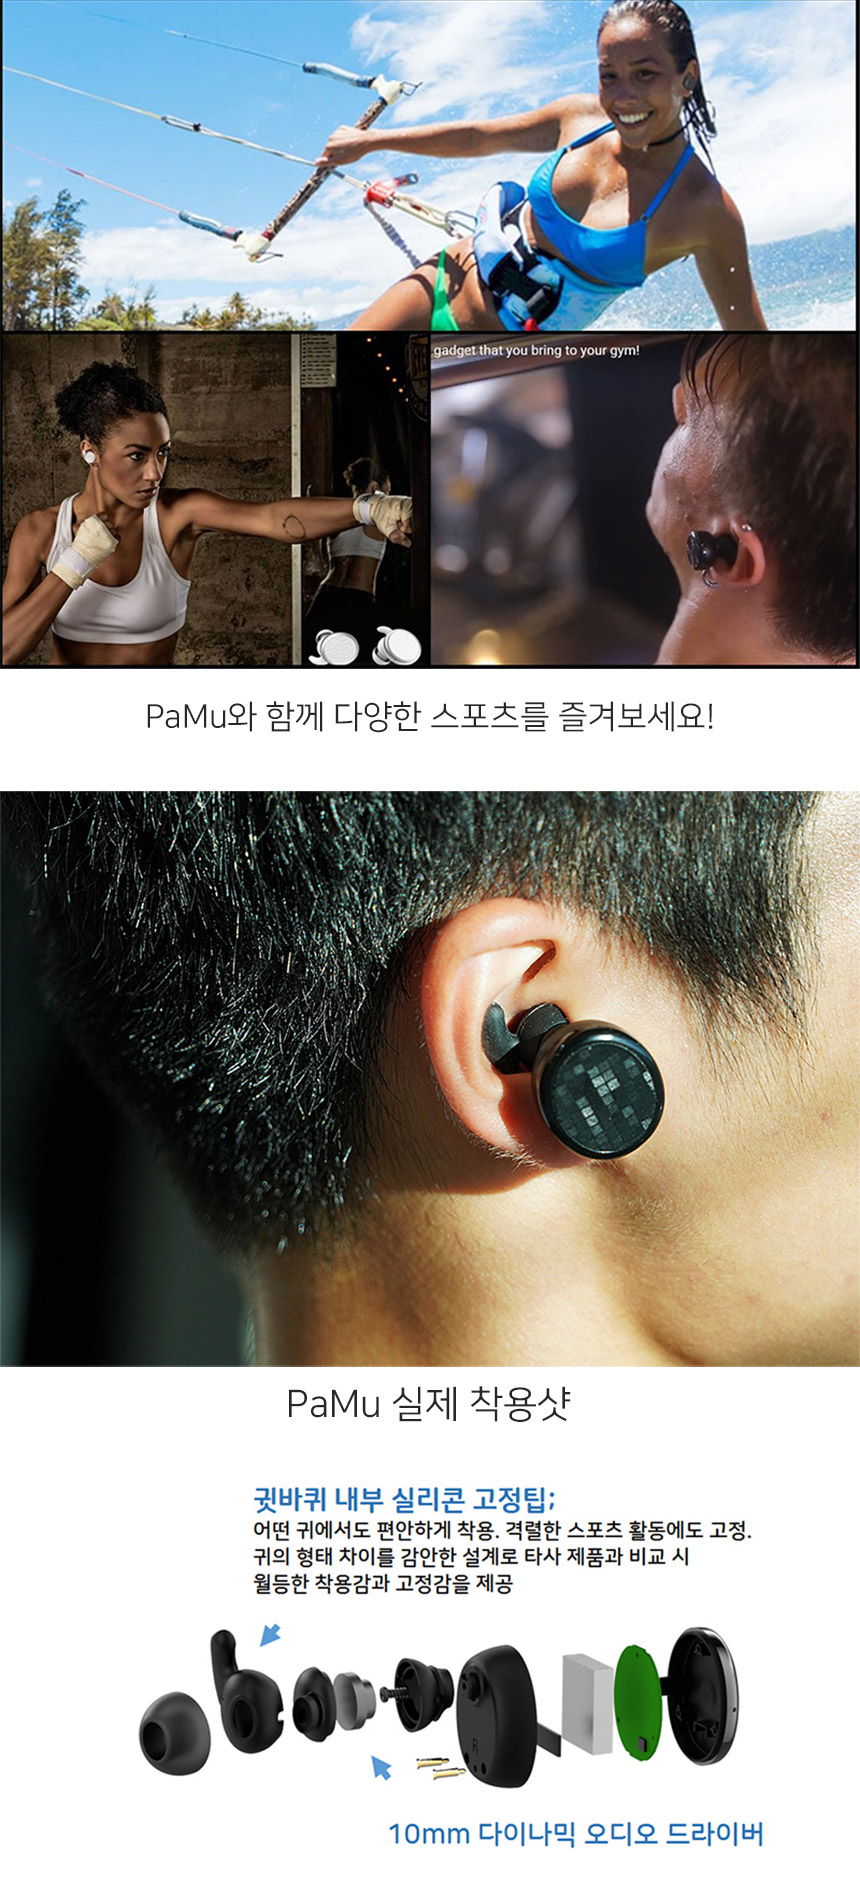earphone: (423, 898, 674, 1170), (684, 513, 766, 591), (676, 60, 699, 97), (79, 440, 101, 469)
